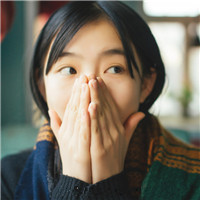face: (44, 21, 137, 143)
